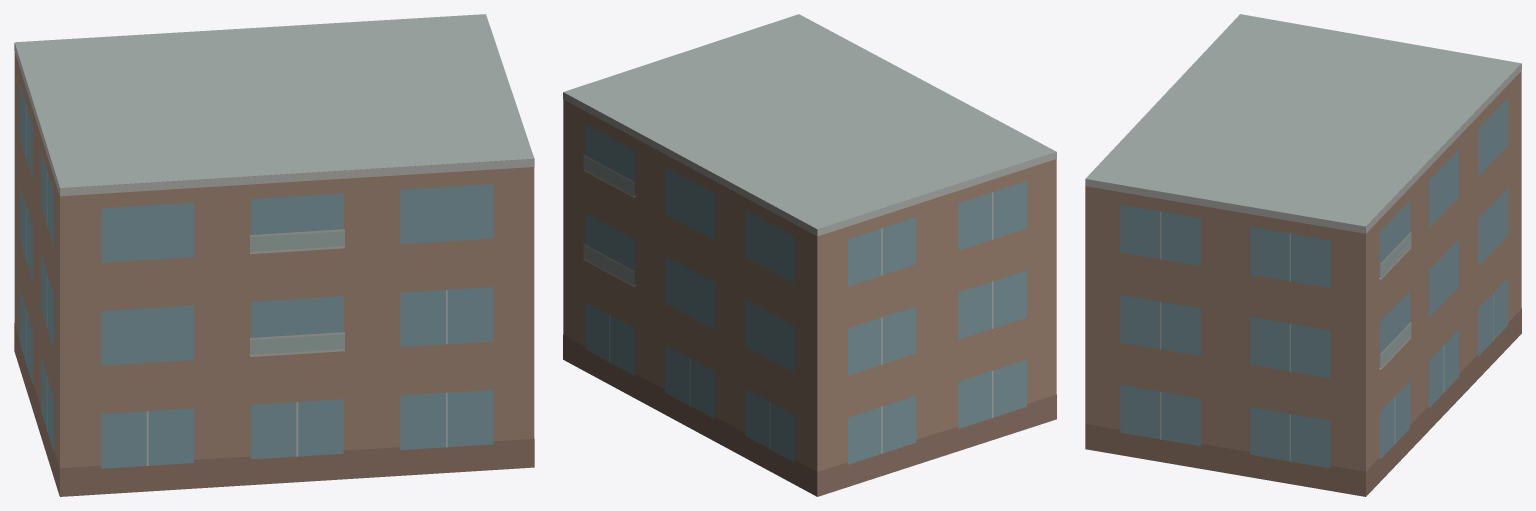
Rendered from survey-upis-32982332.glb.
3 views of the same model, side by side, from view 1: azimuth 30°, elevation 25°; view 2: azimuth 150°, elevation 25°; view 3: azimuth 270°, elevation 25° (orthographic). The views are drawn at different scales.
Parts seen in each view (by area): view 1: survey-upis-32982332.tmp; view 2: survey-upis-32982332.tmp; view 3: survey-upis-32982332.tmp.
Part boxes in pixels (box(x1,y1,x2,y2)): survey-upis-32982332.tmp: box(14, 14, 534, 496); survey-upis-32982332.tmp: box(563, 14, 1056, 496); survey-upis-32982332.tmp: box(1085, 14, 1521, 496).
Size of the model in its own units: 15.45 by 9.15 by 13.4.
